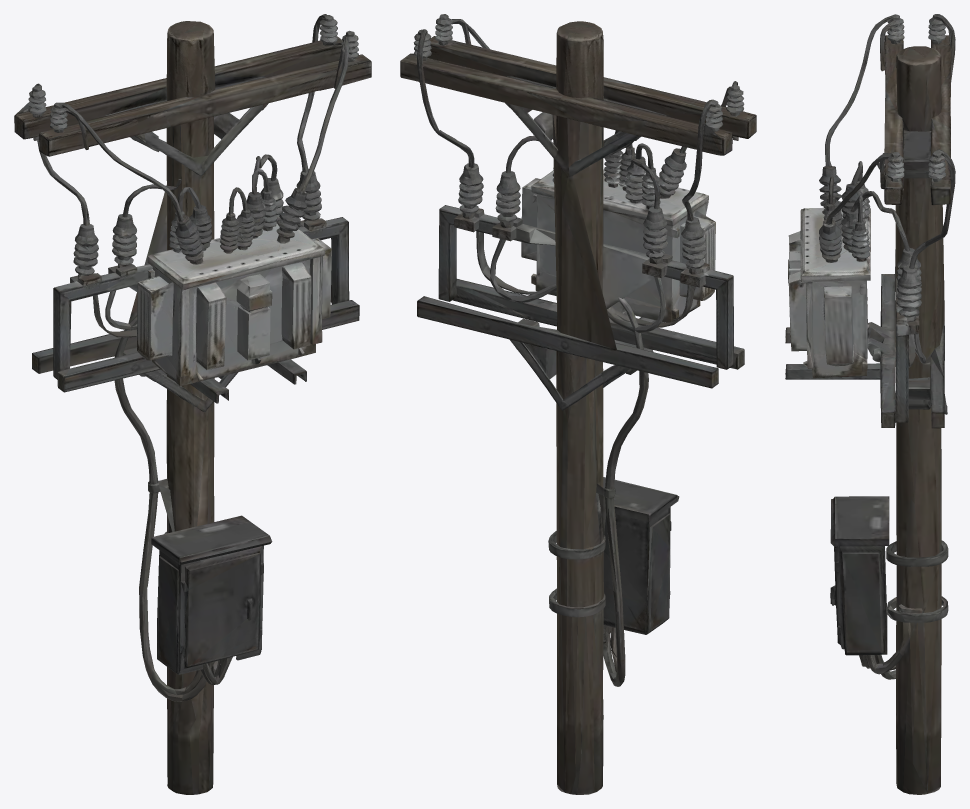
The model's file is recloser.glb.
The picture shows the model from 3 angles, left to right: view 1: azimuth 30°, elevation 25°; view 2: azimuth 150°, elevation 25°; view 3: azimuth 270°, elevation 25°; orthographic projection. The views are drawn at different scales.
Bounding box in the file's own units: 0.8499 × 1.9 × 0.3997.
Materials: 1 (1 with a texture image).
